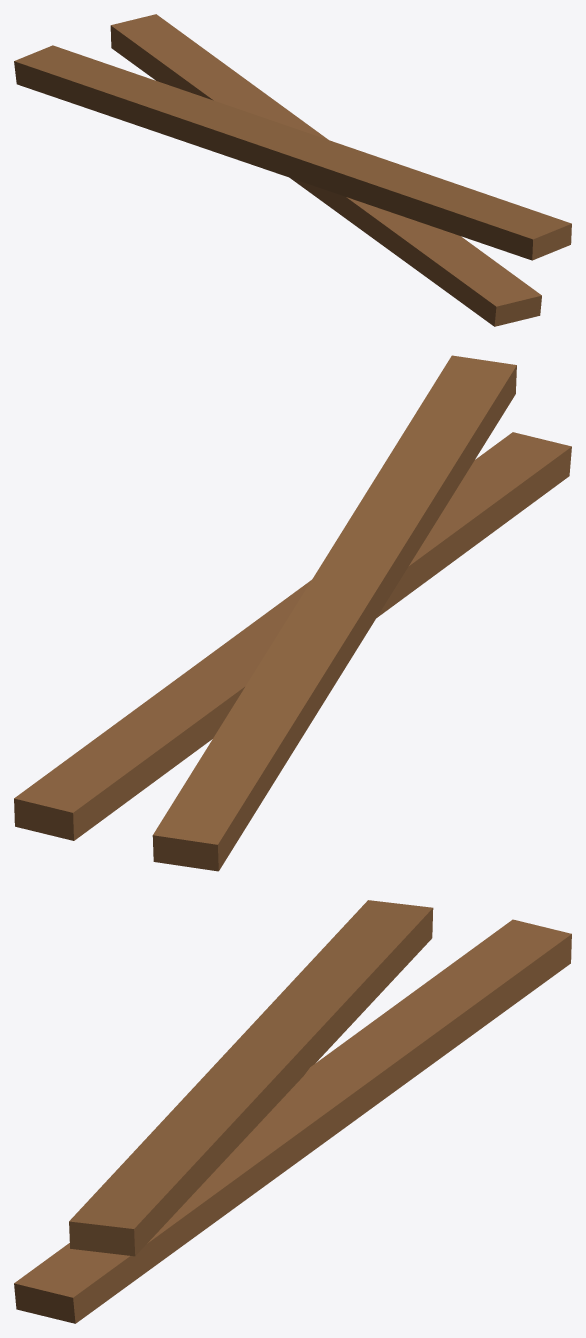
The model's file is plank_2_mat.fbx.
The picture shows the model from 3 angles, top to bottom: view 1: azimuth 30°, elevation 25°; view 2: azimuth 150°, elevation 25°; view 3: azimuth 330°, elevation 25°; orthographic projection. The views are drawn at different scales.
Visible parts, largest first — view 1: plank_2_mat; view 2: plank_2_mat; view 3: plank_2_mat.
Part boxes in pixels (x1,y1,x2,y2): plank_2_mat: (14,14,571,326); plank_2_mat: (14,355,571,871); plank_2_mat: (14,900,571,1323).
Size of the model in its own units: 0.8412 by 0.3588 by 2.98.
